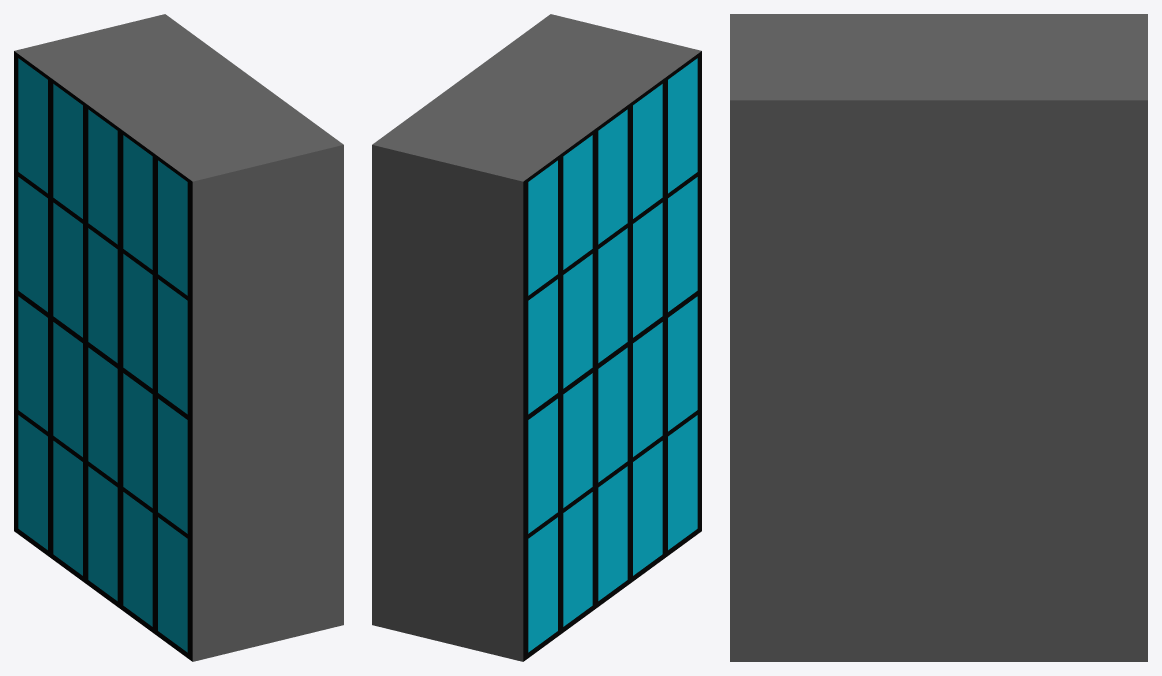
Rendered from building_02.glb.
3 renders of one model, left to right at view 1: azimuth 30°, elevation 25°; view 2: azimuth 150°, elevation 25°; view 3: azimuth 270°, elevation 25°, orthographic. The views are drawn at different scales.
Parts seen in each view (by area): view 1: Cube, Cube.001; view 2: Cube, Cube.001; view 3: Cube.
Boxes of the visible parts, bbox=[...] form: Cube: bbox=[14, 14, 343, 661]; Cube.001: bbox=[18, 58, 187, 652]; Cube: bbox=[372, 14, 701, 661]; Cube.001: bbox=[528, 58, 697, 652]; Cube: bbox=[730, 14, 1147, 661].
Size of the model in its own units: 4.01 by 12.14 by 8.19.
